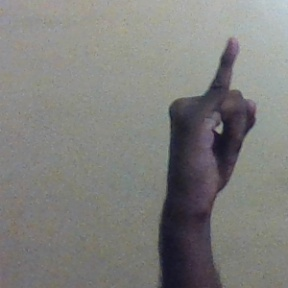I: (165, 35, 259, 204)
